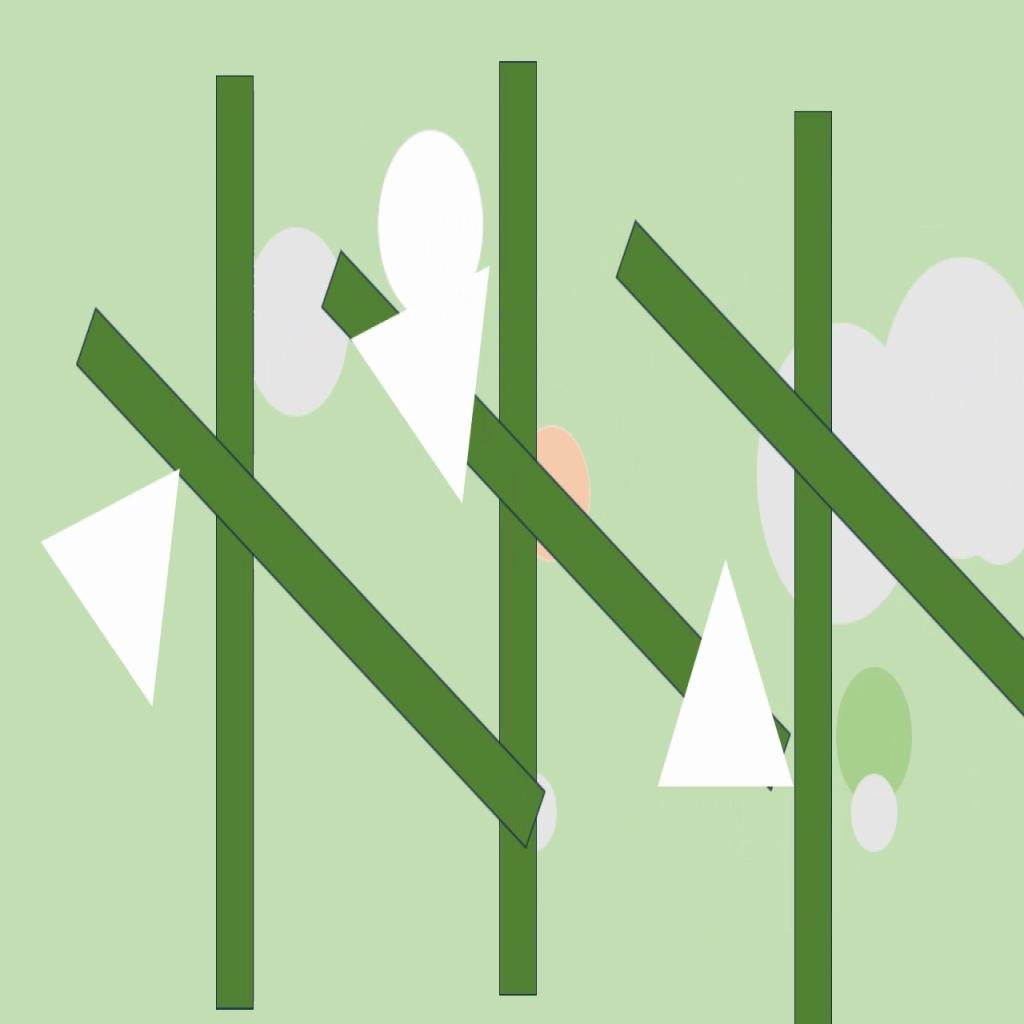Circle: (751, 320, 920, 625), (881, 248, 1024, 556), (237, 226, 352, 418), (378, 126, 485, 318), (835, 665, 915, 801), (519, 425, 591, 563), (849, 773, 900, 855), (512, 775, 558, 852), (980, 485, 1018, 567)
